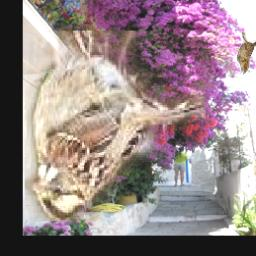Sparrow: (26, 32, 207, 222), (236, 32, 256, 74)
